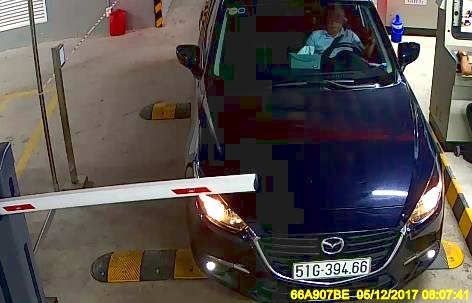plate: (296, 252, 371, 282)
